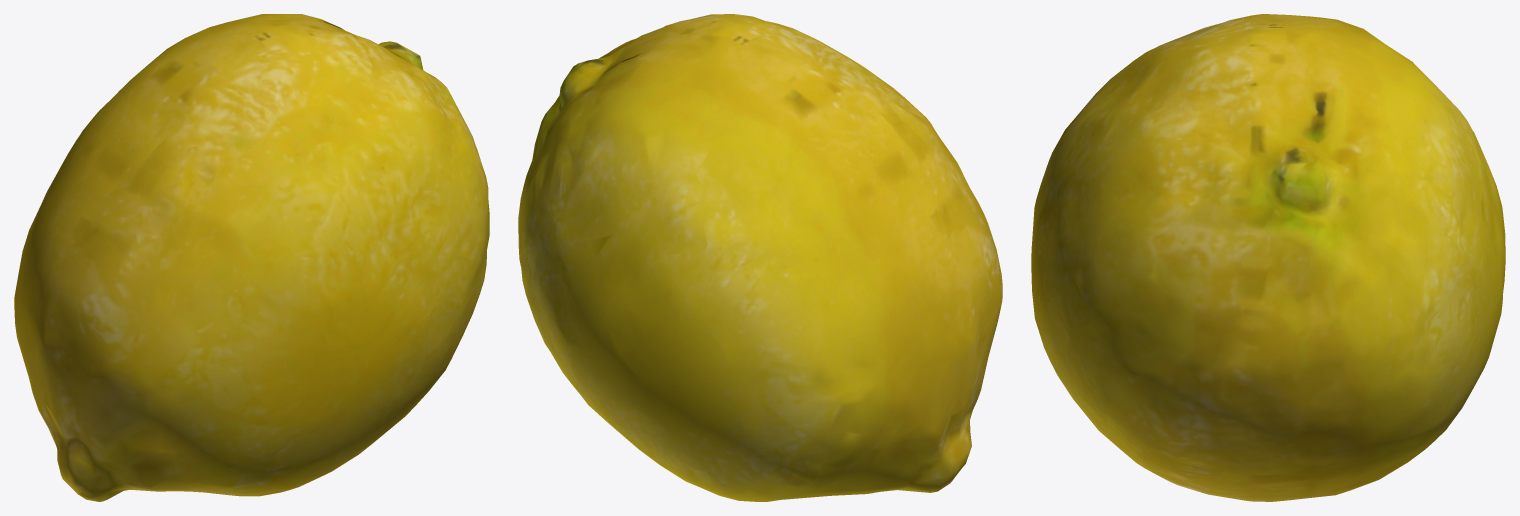
Rendered from 014_lemon.obj.
3 views of the same model, side by side, from view 1: azimuth 30°, elevation 25°; view 2: azimuth 150°, elevation 25°; view 3: azimuth 270°, elevation 25° (orthographic). The views are drawn at different scales.
Parts seen in each view (by area): view 1: 014_lemon; view 2: 014_lemon; view 3: 014_lemon.
Boxes of the visible parts, x1=… form: 014_lemon: x1=14, y1=14, x2=489, y2=501; 014_lemon: x1=518, y1=14, x2=1002, y2=501; 014_lemon: x1=1031, y1=14, x2=1505, y2=501.
Size of the model in its own units: 0.0606 by 0.0593 by 0.053.
1 material, 1 textured.
